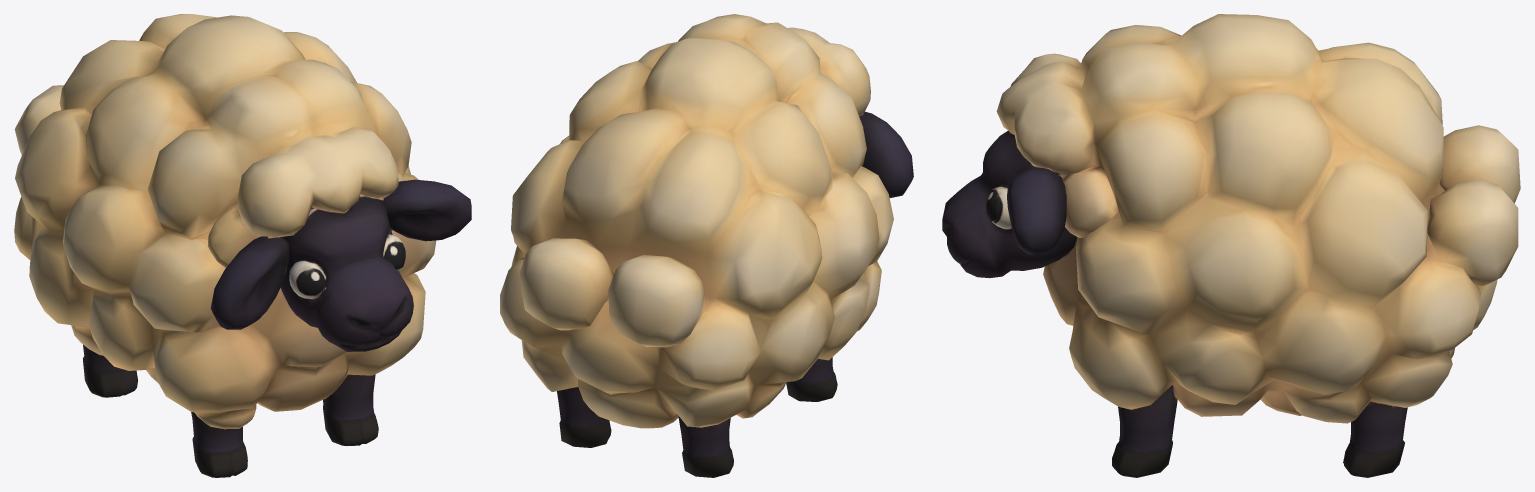
File: sheep.glb
The picture shows the model from 3 angles, left to right: view 1: azimuth 30°, elevation 25°; view 2: azimuth 150°, elevation 25°; view 3: azimuth 270°, elevation 25°; orthographic projection. The views are drawn at different scales.
Visible parts, largest first — view 1: tripo_node_264ccf0c-14fc-4e3e-87d9-775c2c63353c; view 2: tripo_node_264ccf0c-14fc-4e3e-87d9-775c2c63353c; view 3: tripo_node_264ccf0c-14fc-4e3e-87d9-775c2c63353c.
Part boxes in pixels (x1,y1,x2,y2): tripo_node_264ccf0c-14fc-4e3e-87d9-775c2c63353c: (14,14,471,477); tripo_node_264ccf0c-14fc-4e3e-87d9-775c2c63353c: (500,14,913,477); tripo_node_264ccf0c-14fc-4e3e-87d9-775c2c63353c: (942,14,1520,477).
Size of the model in its own units: 0.7122 by 0.8 by 1.02.
1 material, 1 textured.
